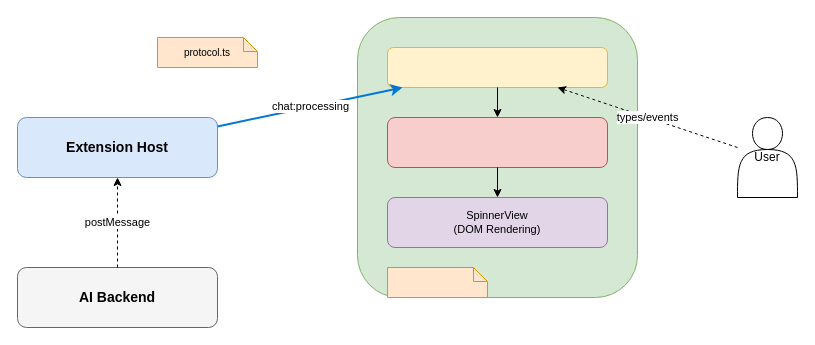
Some shapes in this 815 by 345 pixel diagram are drawn without their labels. Here are the shapes that lost their labels. From the top down, the centre of each, then its label:
At (497,67): "InputAreaIntegration".
At (497,142): "SpinnerController (State Machine)".
At (437,282): "spinner.css".
